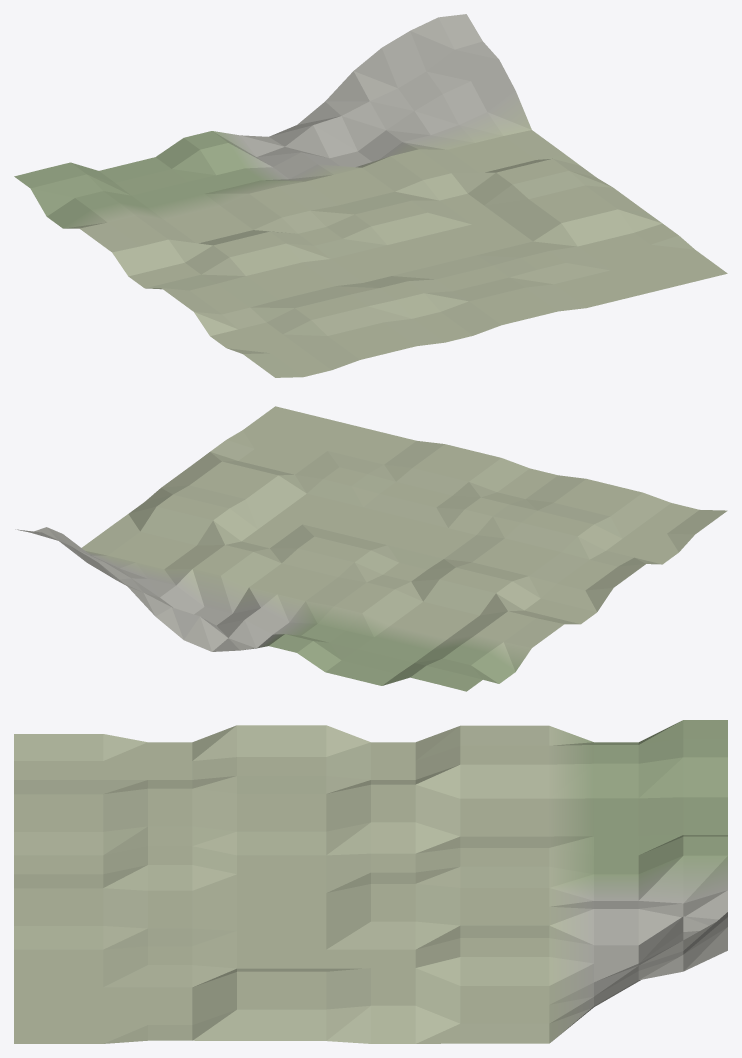
3 views of the same model, one above another, from view 1: azimuth 30°, elevation 25°; view 2: azimuth 150°, elevation 25°; view 3: azimuth 270°, elevation 25° (orthographic). The views are drawn at different scales.
Bounding box in the file's own units: 32 × 5.58 × 32.
